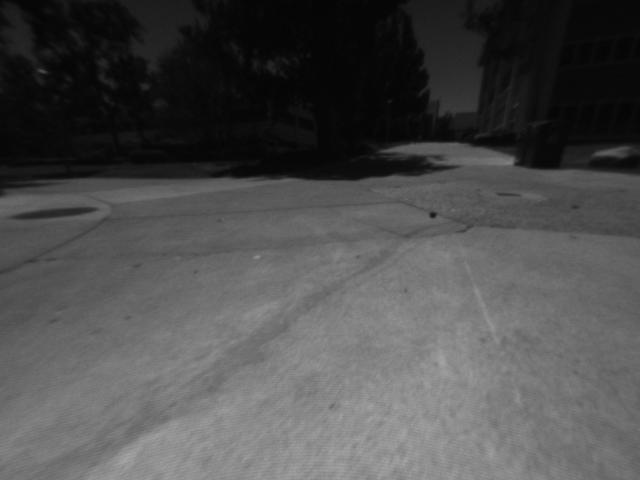dogtoy: (420, 200, 448, 224)
